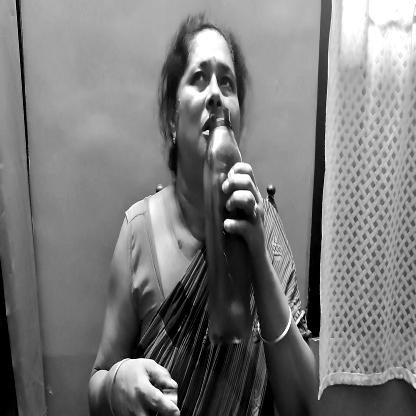Distracted: (174, 26, 242, 146)
